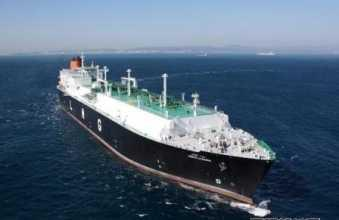Cargoship: (54, 50, 275, 195)
